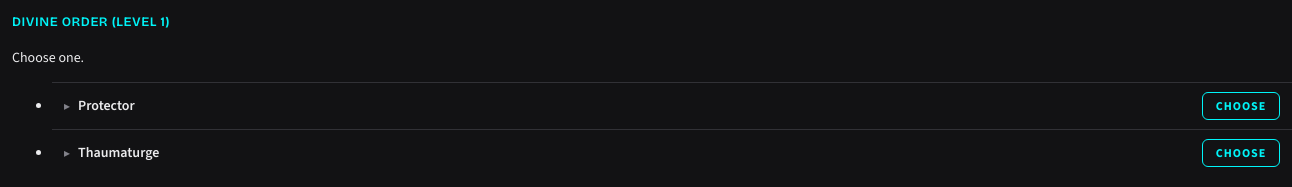
ClassFeatureChoicePicker › replaces the pick for the same feature rather than accumulating
Expected: the text "Protector" is shown, [78, 95, 135, 116]
Click the 1st button "Choose".
click(1241, 106)  # box [1202, 92, 1280, 120]
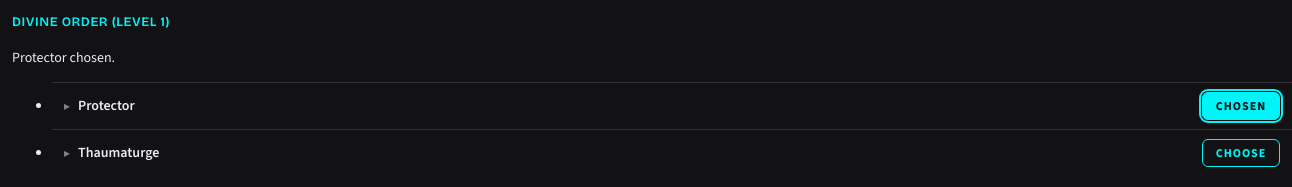
Click the button "Choose".
click(1241, 152)  # box [1202, 138, 1280, 166]
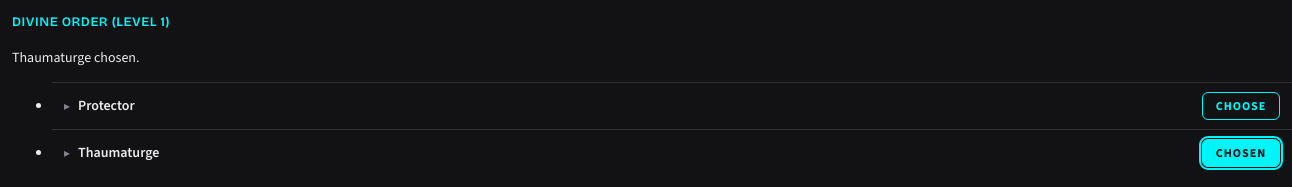
Expected: the text "Thaumaturge chosen." is shown, [12, 48, 140, 66]
